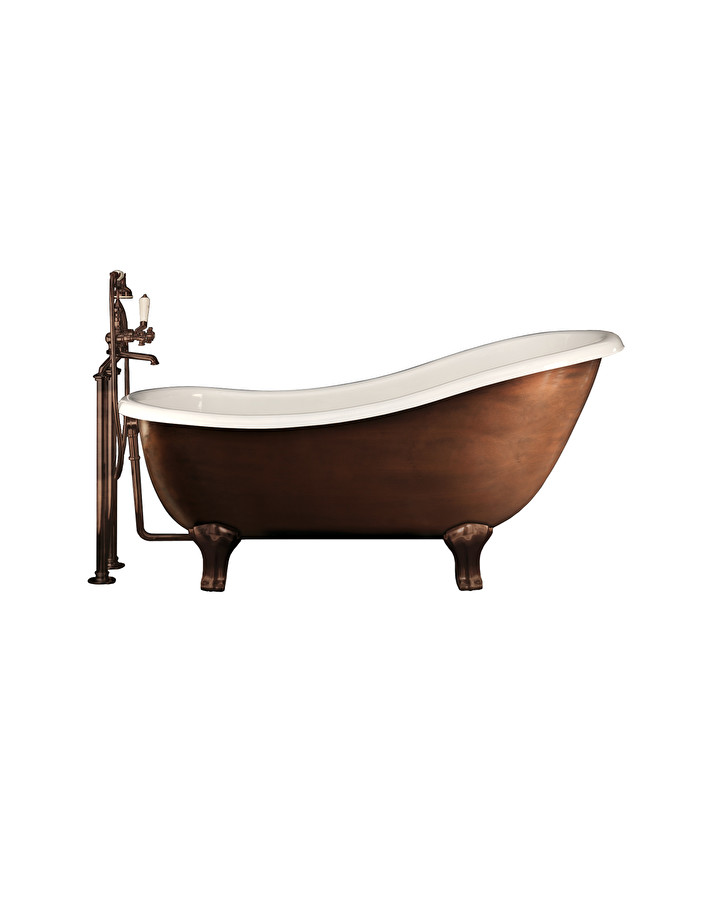bathub: (70, 264, 616, 591)
